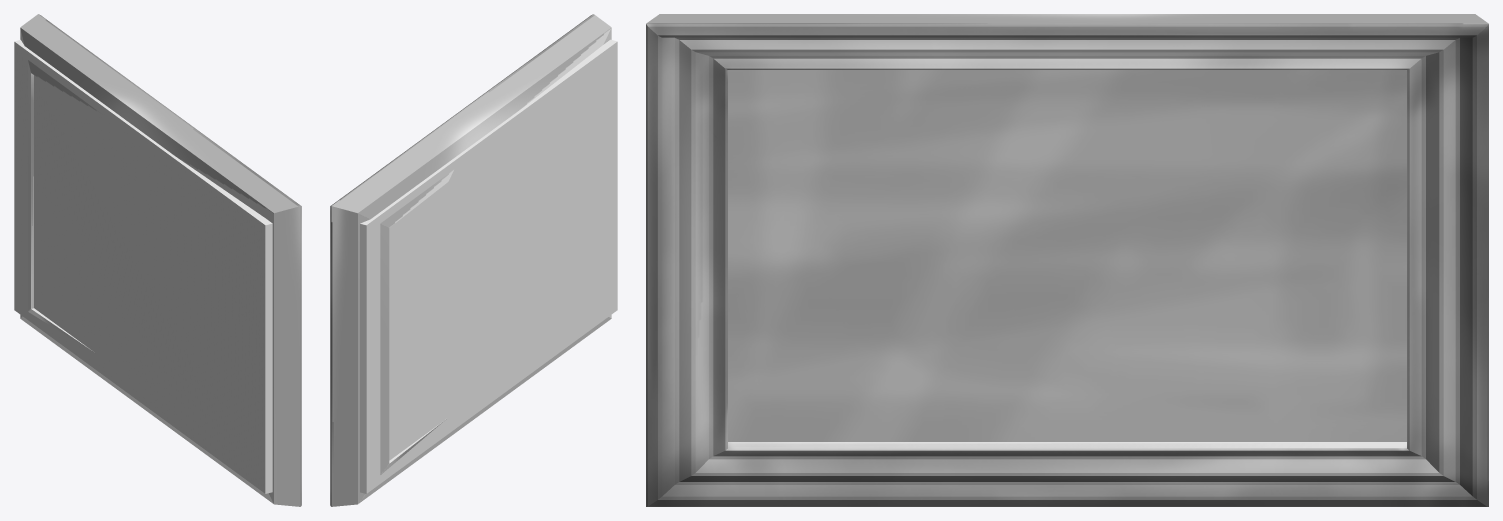
File: frame.fbx
3 views of the same model, side by side, from view 1: azimuth 30°, elevation 25°; view 2: azimuth 150°, elevation 25°; view 3: azimuth 270°, elevation 25° (orthographic). The views are drawn at different scales.
Visible parts, largest first — view 1: Cube.001, Cube; view 2: Cube.001, Cube; view 3: Cube.001, Cube.
Part boxes in pixels (x1,y1,x2,y2): Cube.001: (14, 40, 272, 493); Cube: (20, 14, 301, 506); Cube.001: (360, 39, 617, 493); Cube: (330, 14, 611, 506); Cube.001: (728, 70, 1406, 441); Cube: (646, 14, 1488, 506).
Bounding box in the file's own units: 42.53 × 343 × 542.
Materials: 2 (2 with a texture image).
